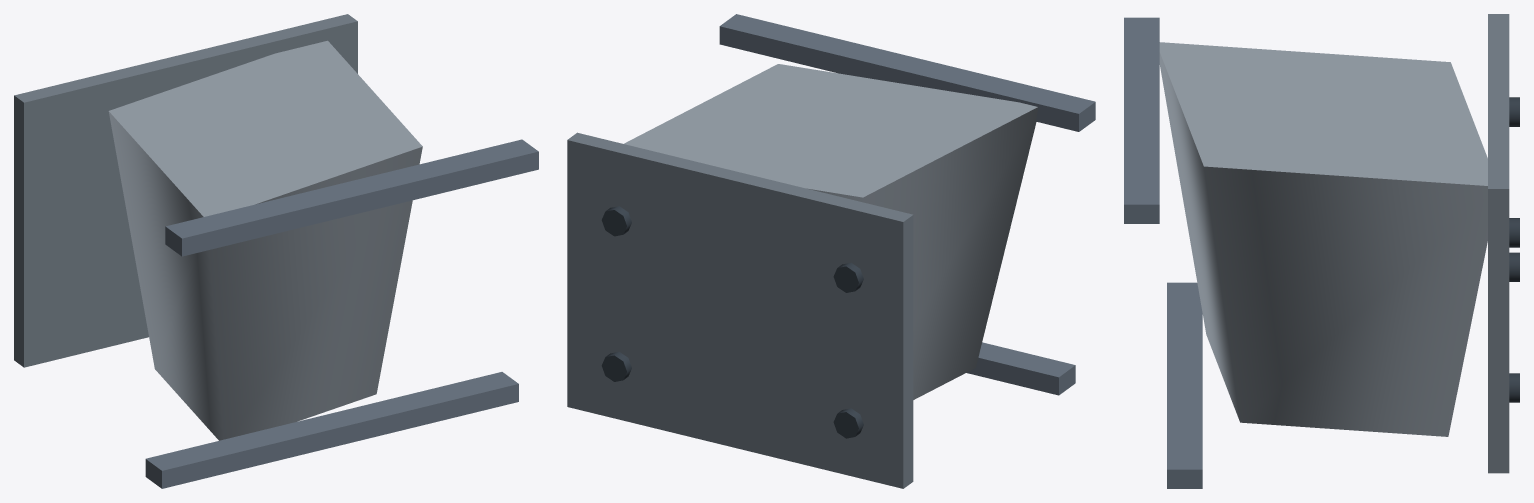
The model's file is bucket.glb.
3 renders of one model, left to right at view 1: azimuth 30°, elevation 25°; view 2: azimuth 150°, elevation 25°; view 3: azimuth 270°, elevation 25°, orthographic. The views are drawn at different scales.
Size of the model in its own units: 0.62 by 0.455 by 0.555.
